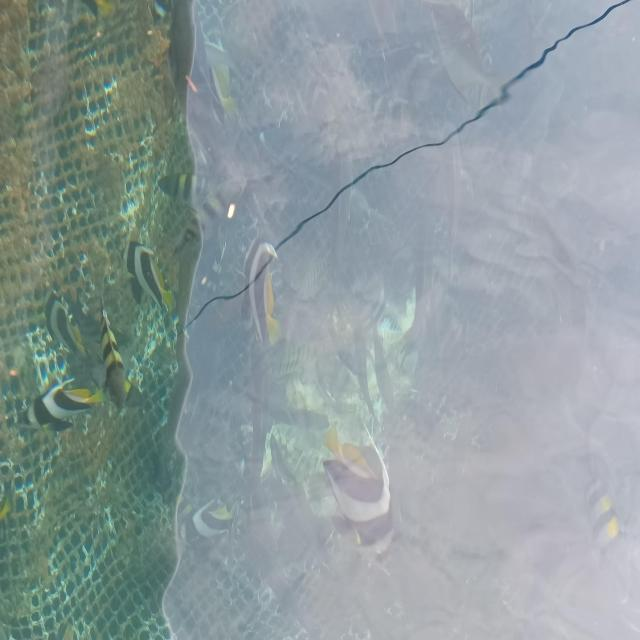ikan: (321, 424, 395, 554), (94, 296, 140, 412), (15, 375, 101, 434), (242, 235, 281, 348), (126, 239, 174, 314), (44, 289, 88, 359), (203, 37, 239, 119), (156, 171, 196, 204)
